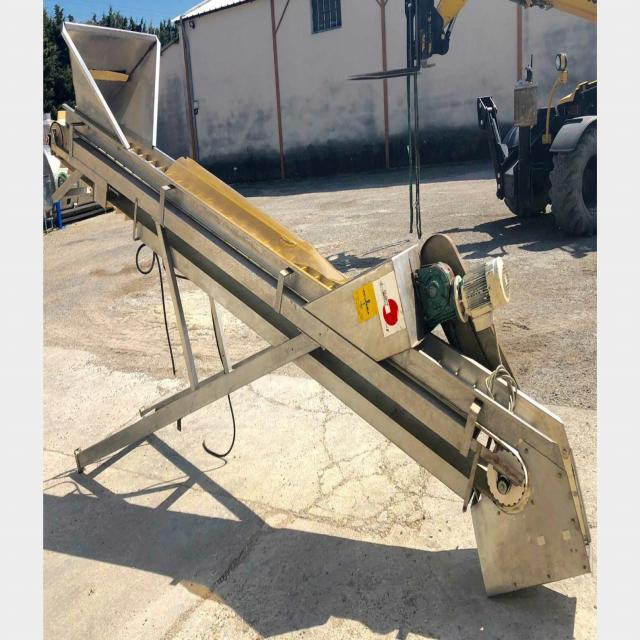Convoyeur: (48, 88, 592, 597)
